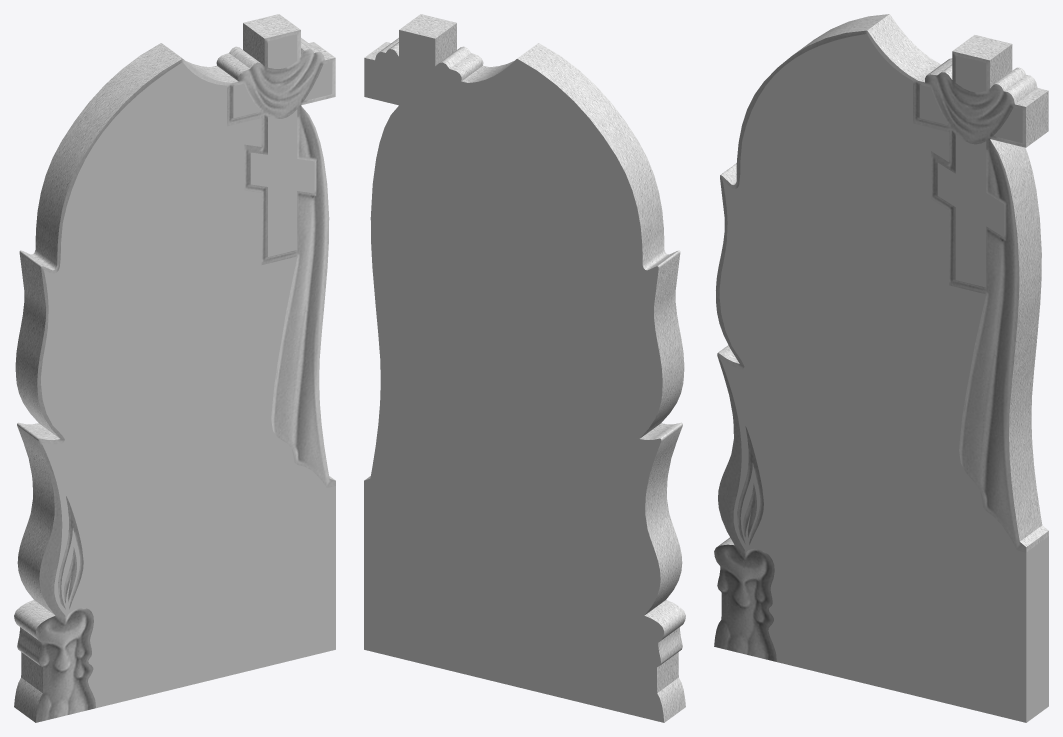
File: cn022efe2f1a_tkf.glb
The picture shows the model from 3 angles, left to right: view 1: azimuth 30°, elevation 25°; view 2: azimuth 150°, elevation 25°; view 3: azimuth 330°, elevation 25°; orthographic projection. The views are drawn at different scales.
Parts seen in each view (by area): view 1: Pam-d01-241, Pam-d01-241_2_notexture; view 2: Pam-d01-241, Pam-d01-241_2_notexture; view 3: Pam-d01-241, Pam-d01-241_2_notexture.
Part boxes in pixels (x1,y1,x2,y2): Pam-d01-241: (41,34,335,708); Pam-d01-241_2_notexture: (14,14,335,722); Pam-d01-241: (364,30,664,722); Pam-d01-241_2_notexture: (364,14,685,722); Pam-d01-241: (719,34,1048,722); Pam-d01-241_2_notexture: (714,14,1048,661).
Size of the model in its own units: 0.4 by 0.8 by 0.05.
1 material, 1 textured.
